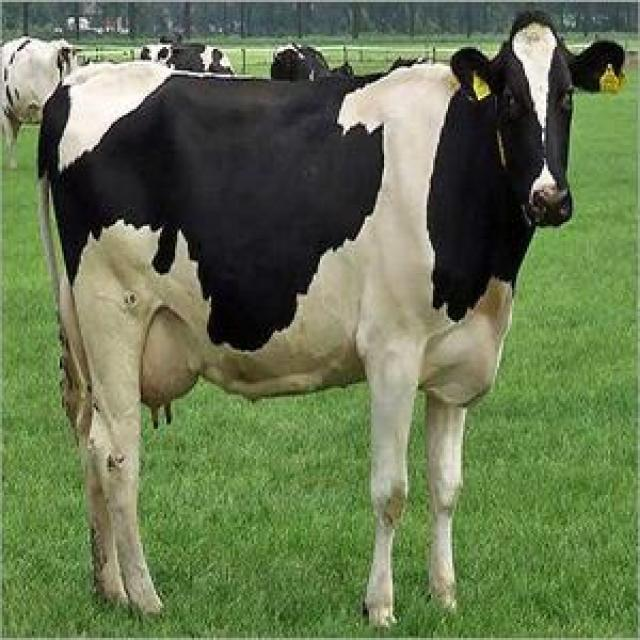cow: (39, 14, 624, 624)
